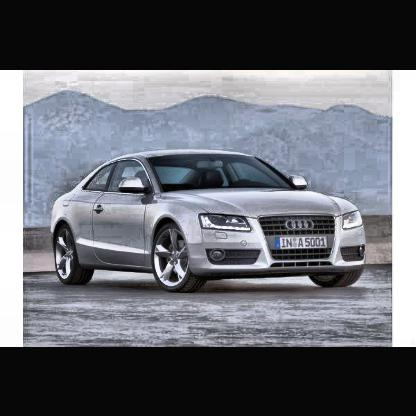Audi A5 Coupe 2012: (51, 145, 367, 293)
